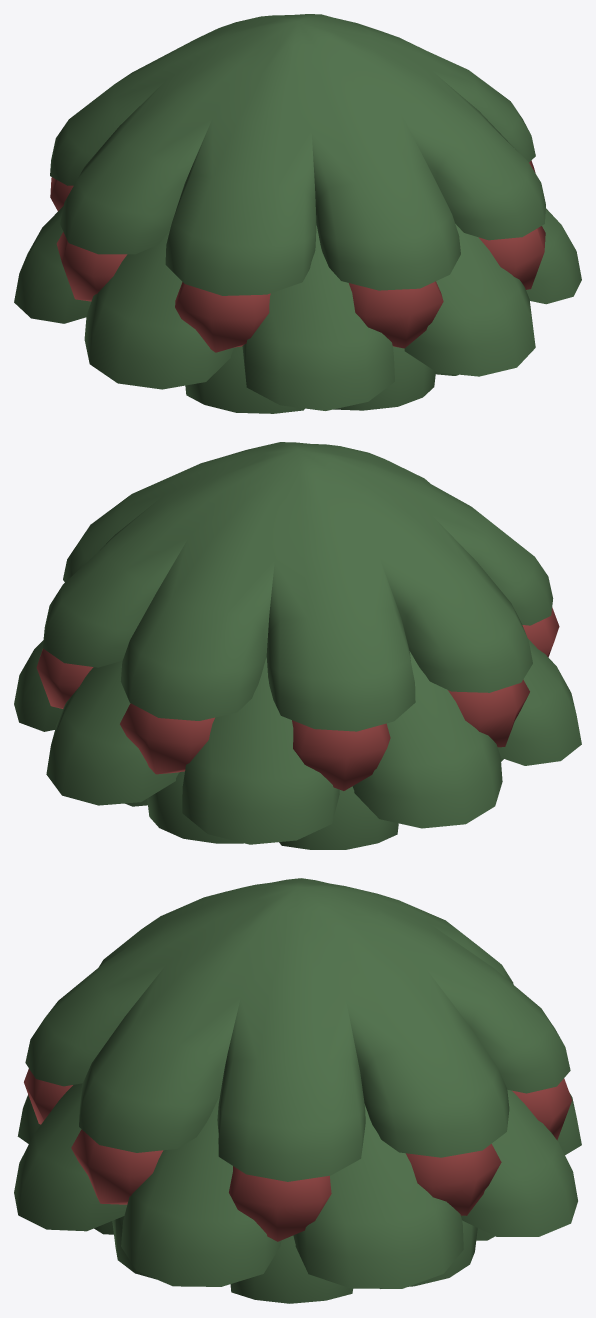
File: Bush_Fruit.001.fbx
3 views of the same model, one above another, from view 1: azimuth 30°, elevation 25°; view 2: azimuth 150°, elevation 25°; view 3: azimuth 270°, elevation 25° (orthographic). The views are drawn at different scales.
Visible parts, largest first — view 1: Bush_Fruit.001; view 2: Bush_Fruit.001; view 3: Bush_Fruit.001.
Part boxes in pixels (x1=…): Bush_Fruit.001: x1=14, y1=14, x2=581, y2=413; Bush_Fruit.001: x1=14, y1=442, x2=581, y2=849; Bush_Fruit.001: x1=14, y1=878, x2=581, y2=1303.
Size of the model in its own units: 235 by 148 by 235.
